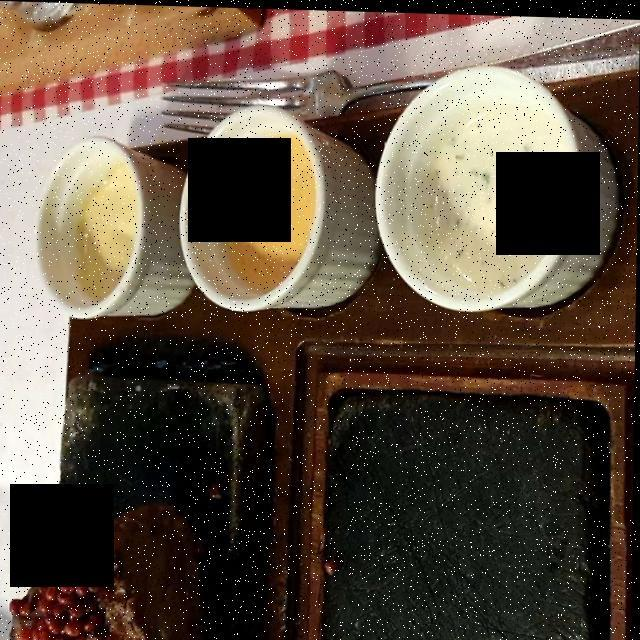dips: (67, 111, 576, 296)
